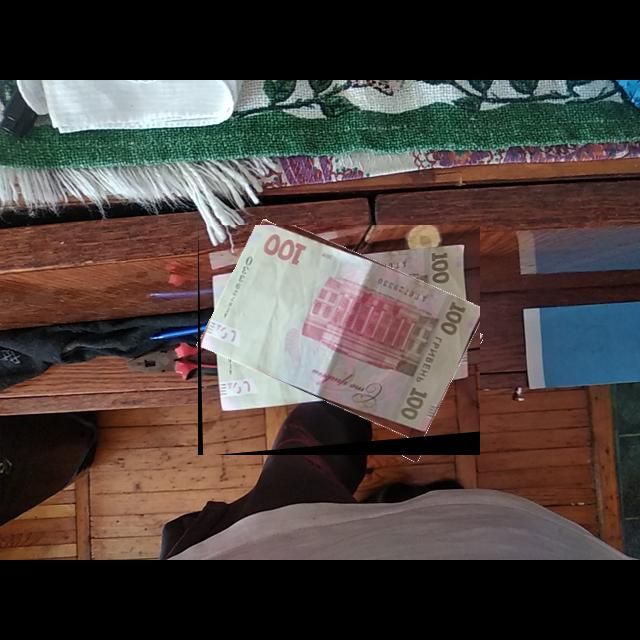100uah: (201, 225, 481, 441)
